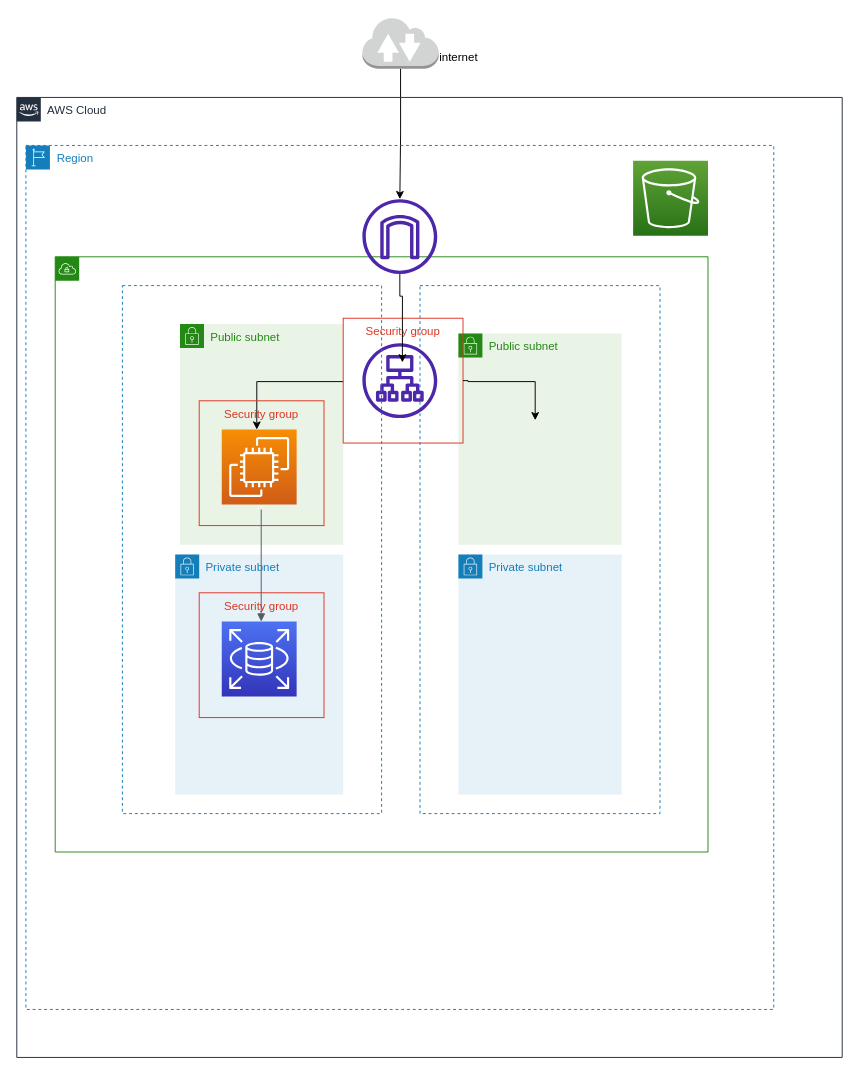
Image size: 859x1074. Some labels were removed from this diagram. The shapes that lost their labels are listed below. From the top down, each one's box as (x1, y1, x2, y2) in pixels, then its label:
(121, 285, 382, 814): Availability Zone-a
(54, 256, 708, 852): VPC
(419, 285, 660, 814): Availability Zone-c
